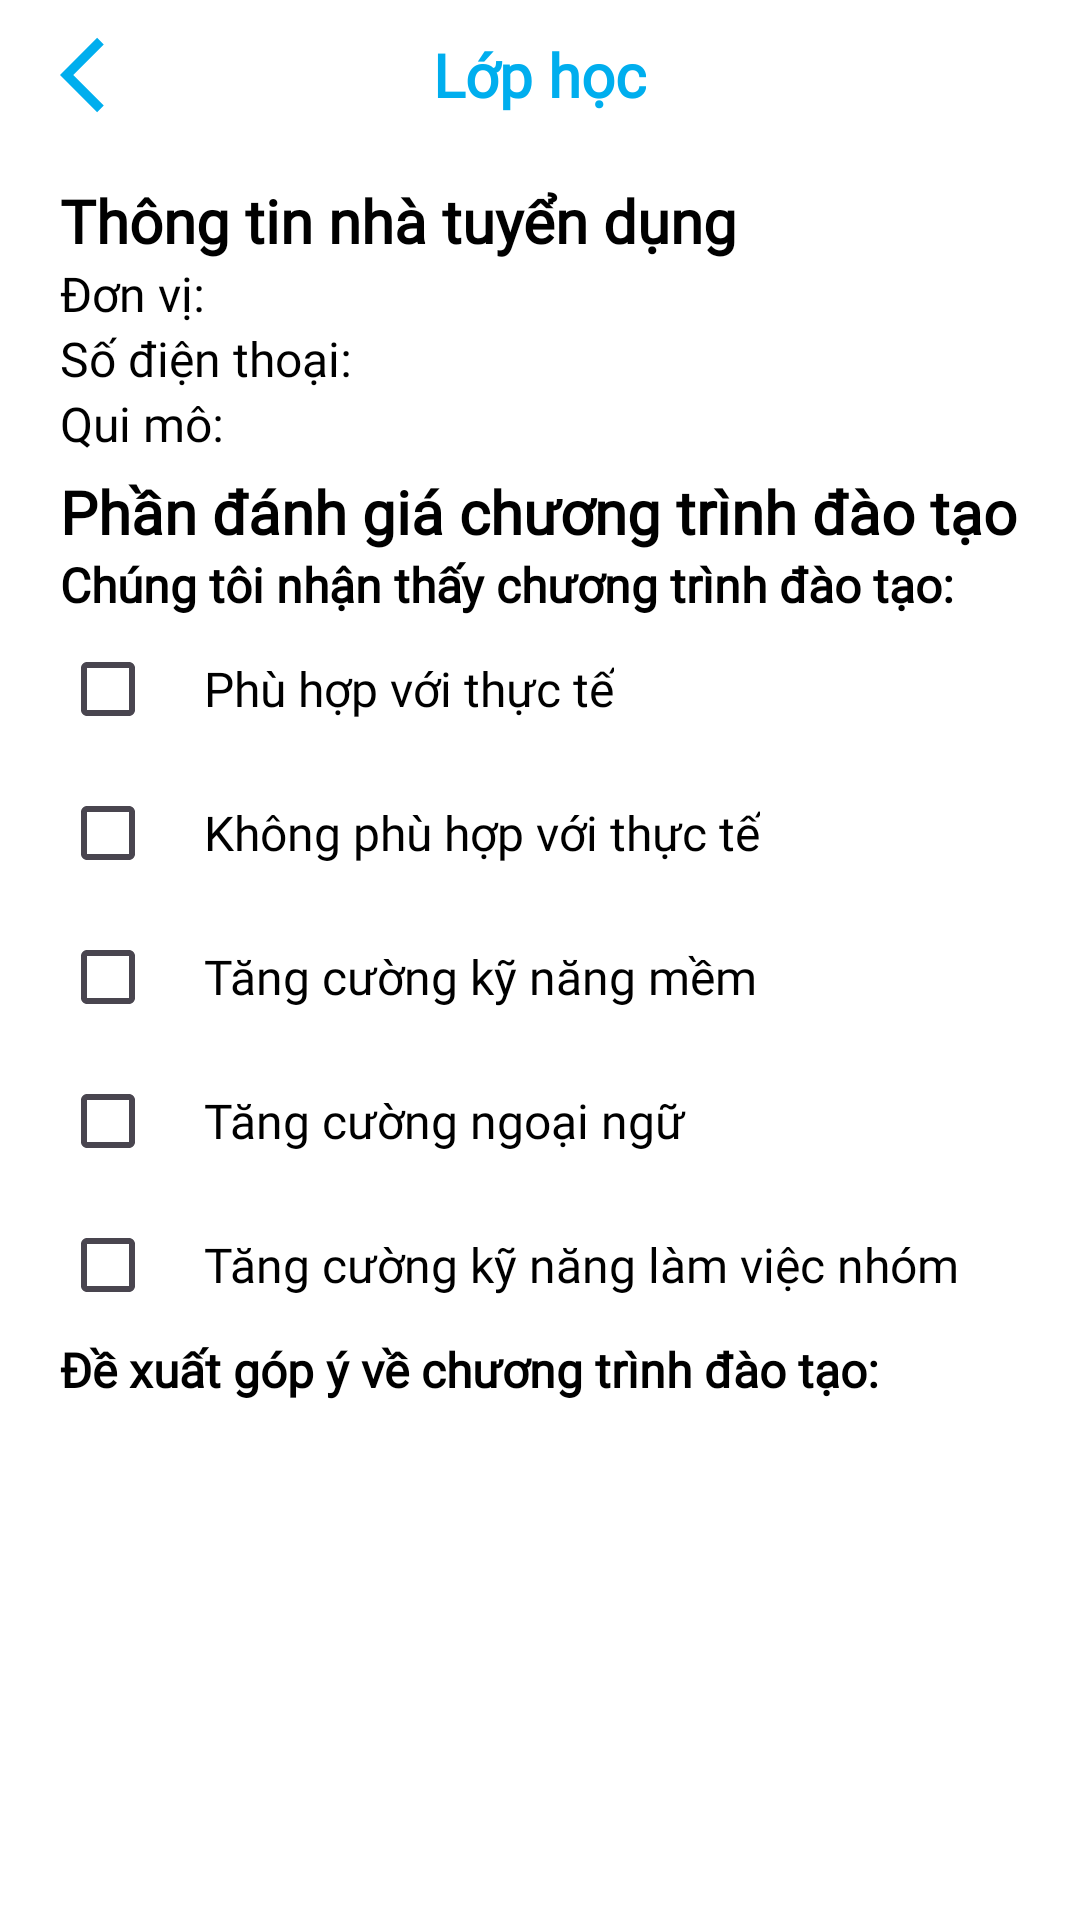

Screen size 1080w x 1920h. Icon name, then its box in pixels as (x1, y1, x2, y2):
back: (60, 38, 104, 112)
